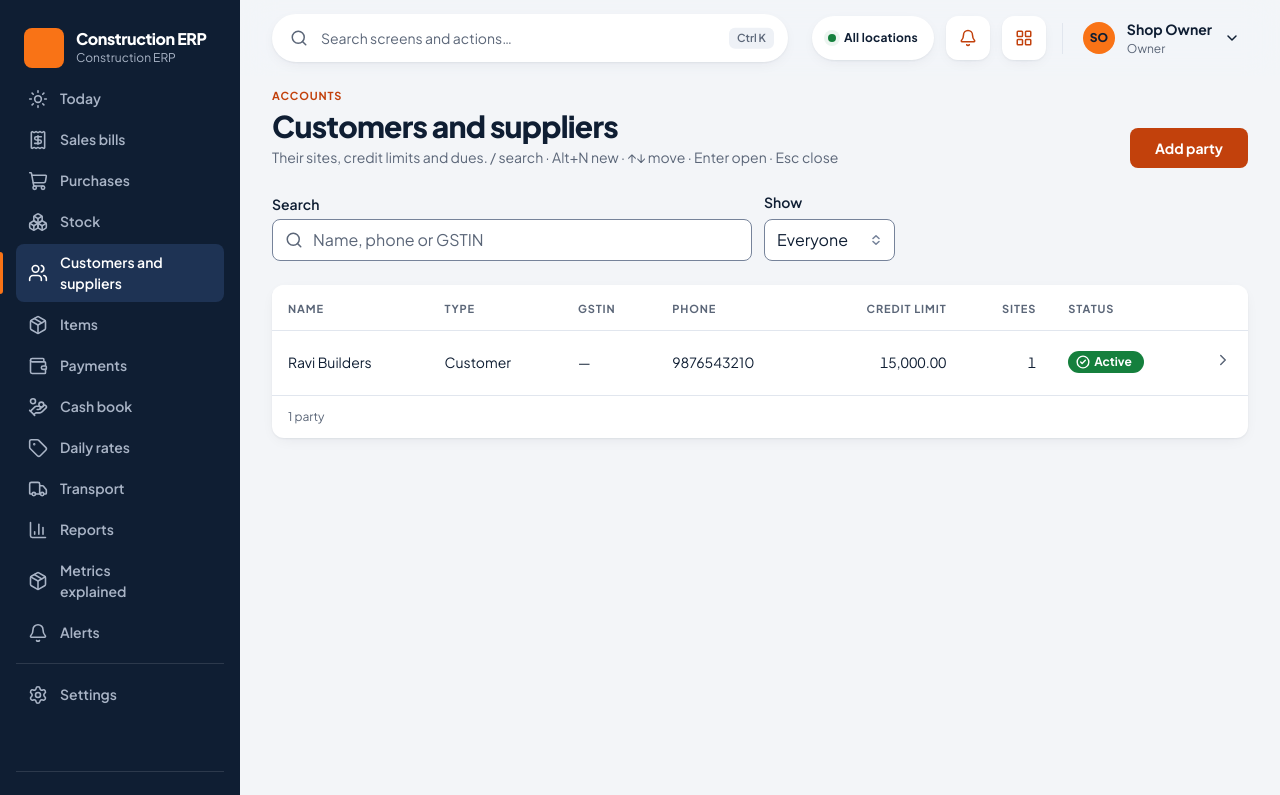
it: Parties › lets the owner set credit terms
The width and height of the screenshot is (1280, 795).
Click the button "Ravi Builders" at [330, 362], box x1=288 y1=352 x2=372 y2=373
(page scrolled)
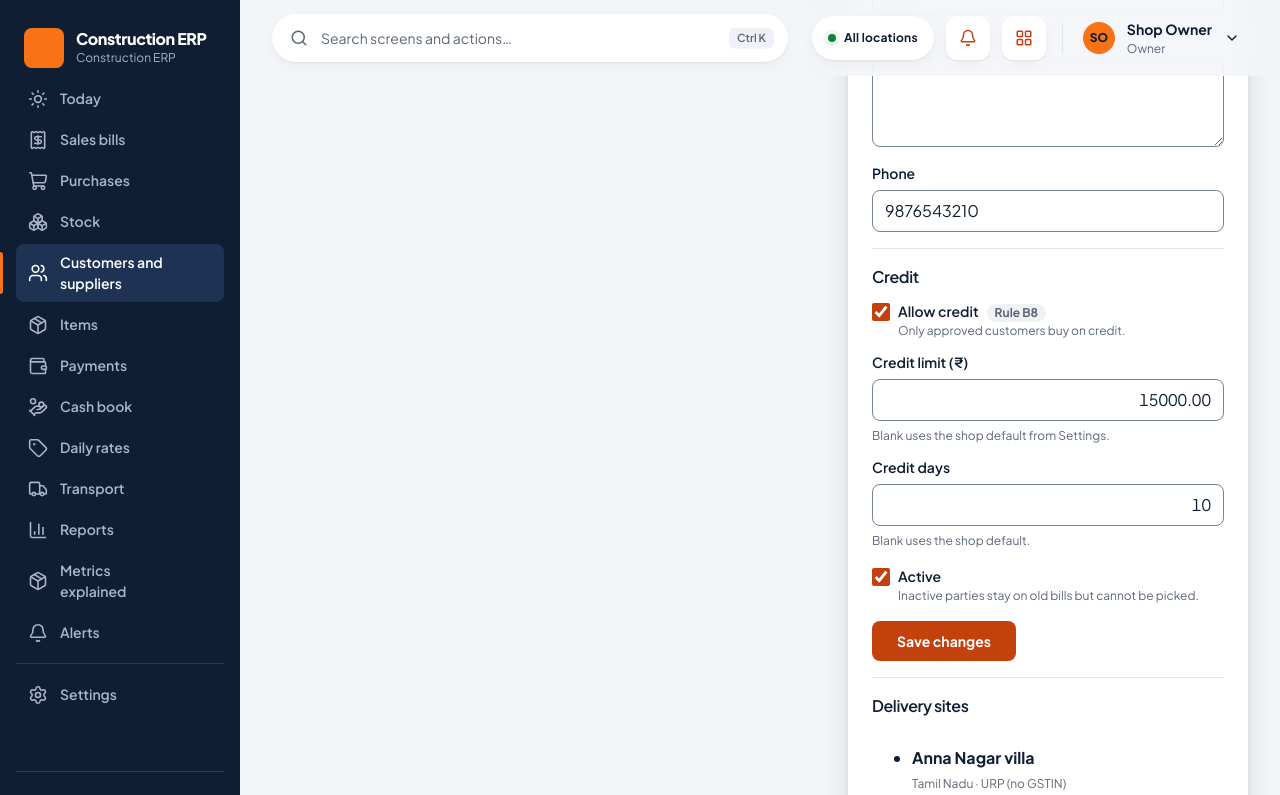
Replace the text in the field labelled "Credit limit (₹)" with "25000" at [1048, 400], box x1=872 y1=379 x2=1224 y2=421
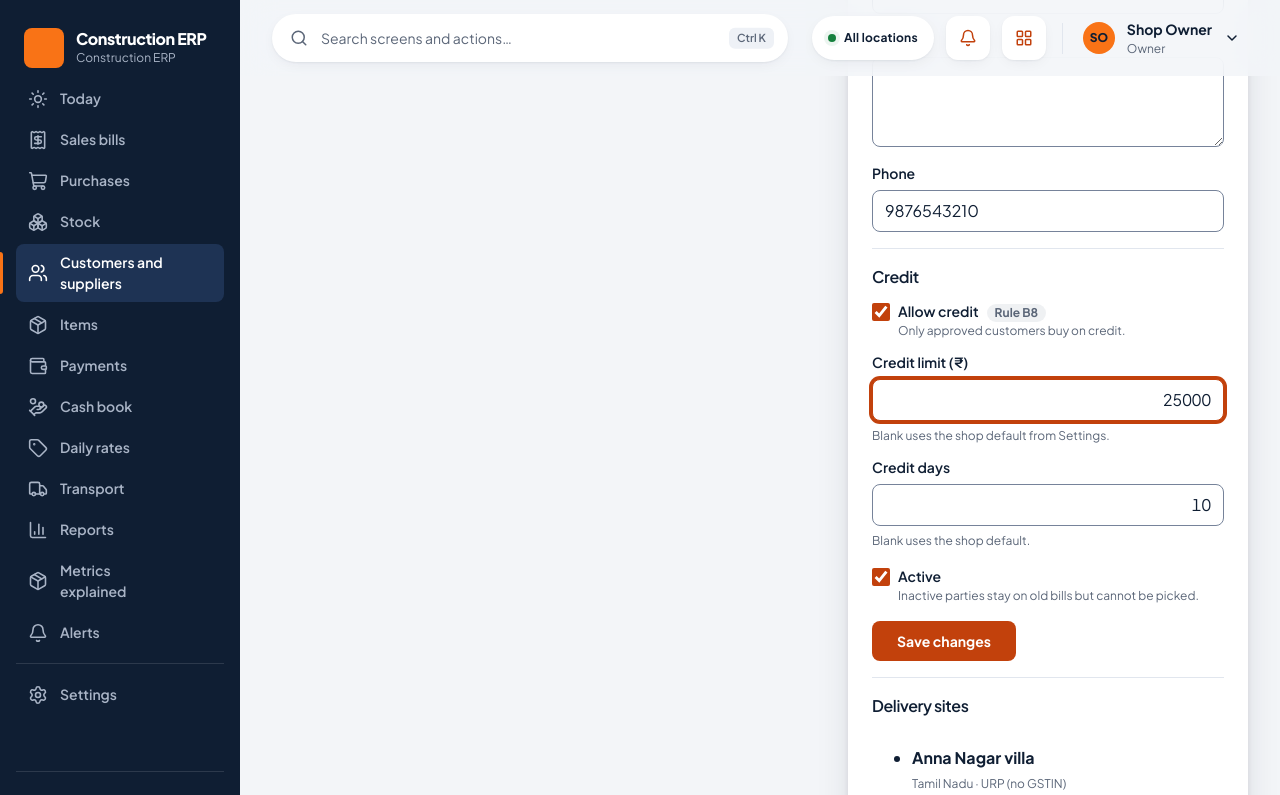
Click the button "Save changes" at [944, 641], box x1=872 y1=621 x2=1016 y2=661
(page scrolled)
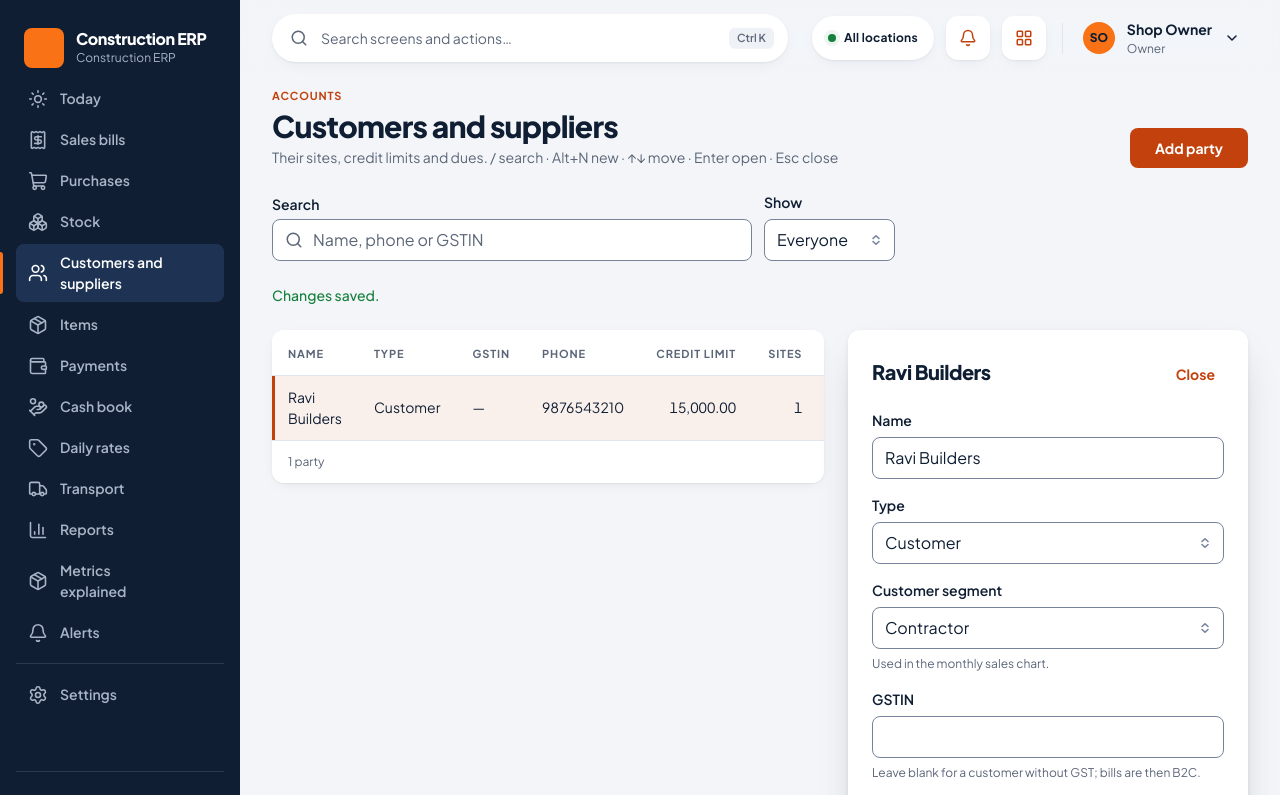
Now the text "Changes saved." is shown, box x1=272 y1=286 x2=379 y2=304
